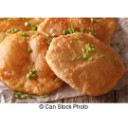poori: (47, 31, 126, 94), (2, 32, 63, 93)
